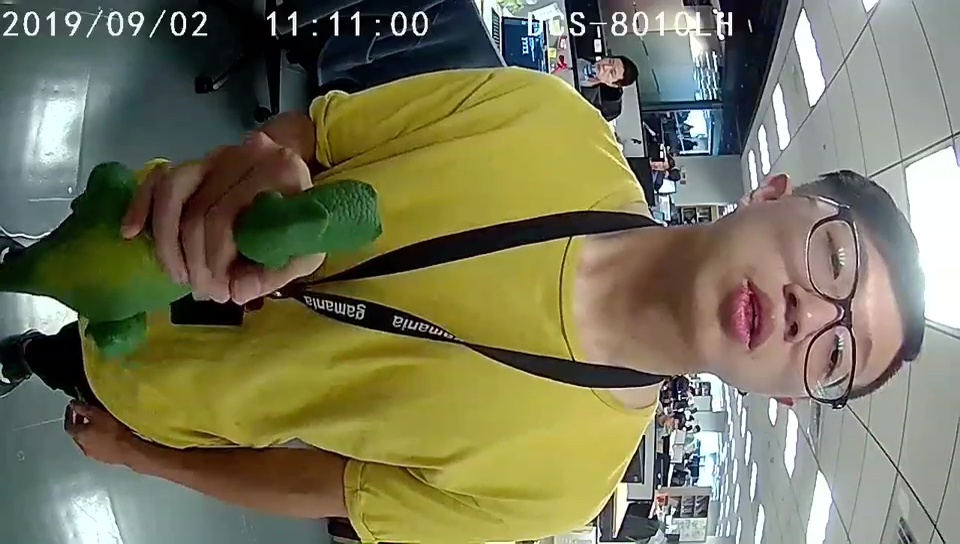rex: (77, 163, 382, 351)
